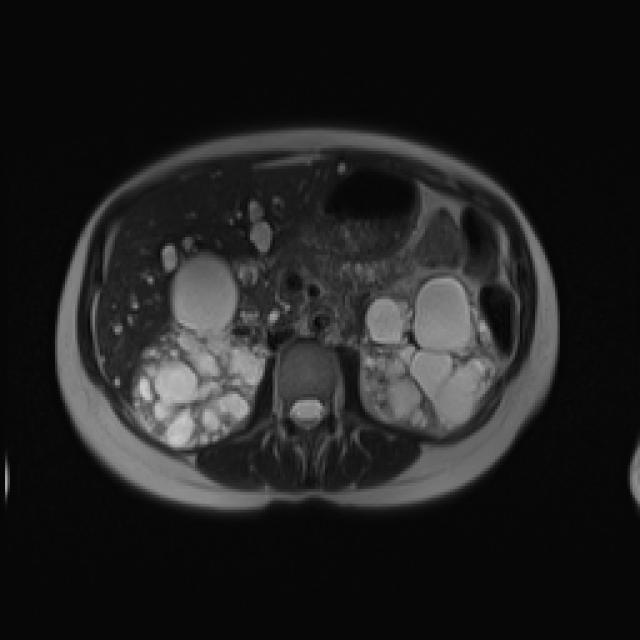sag: (131, 254, 266, 449)
sol: (358, 272, 496, 433)
